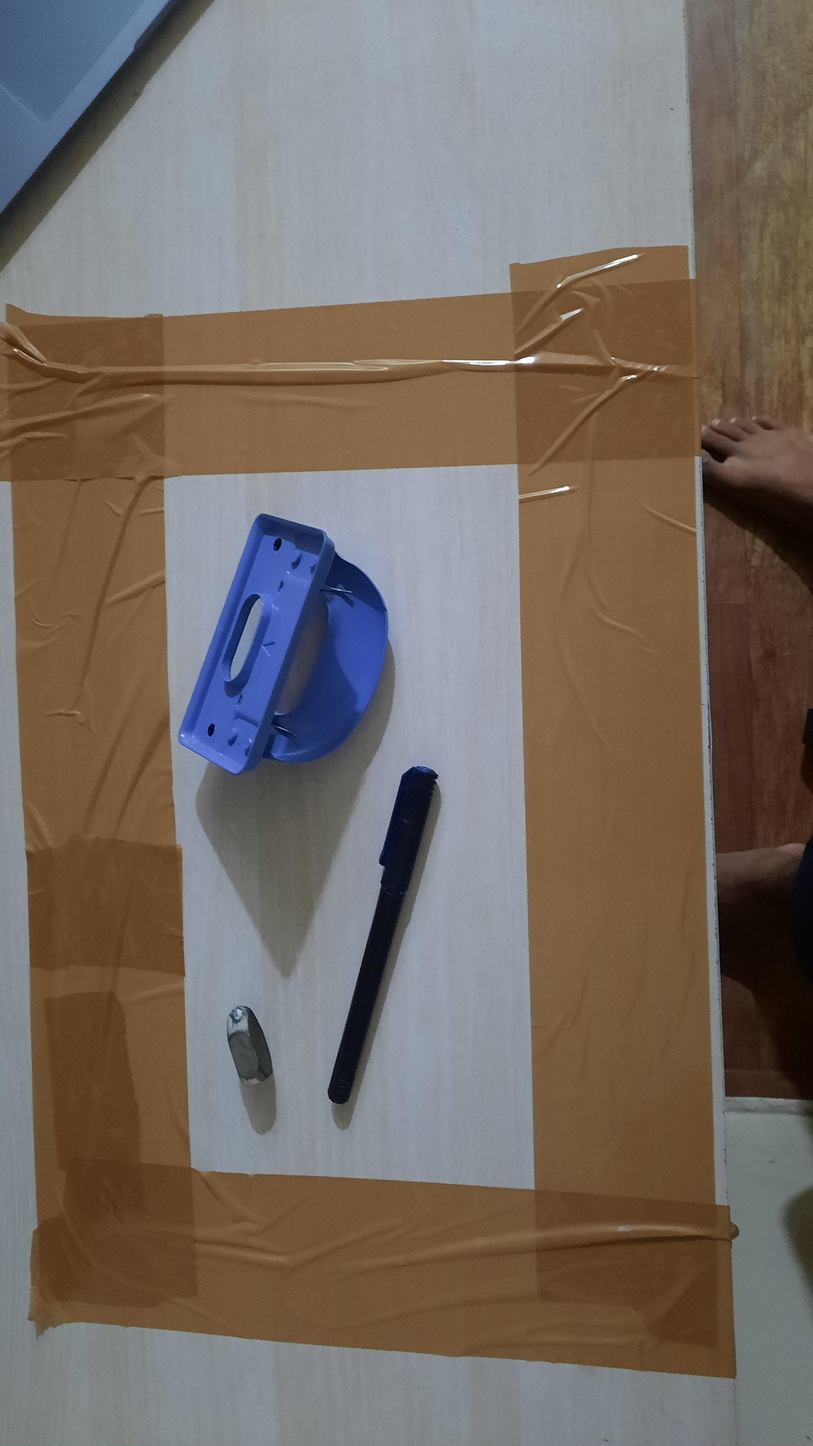Eraser: (227, 1005, 274, 1085)
Pen: (327, 765, 439, 1105)
Punch: (178, 513, 390, 776)
